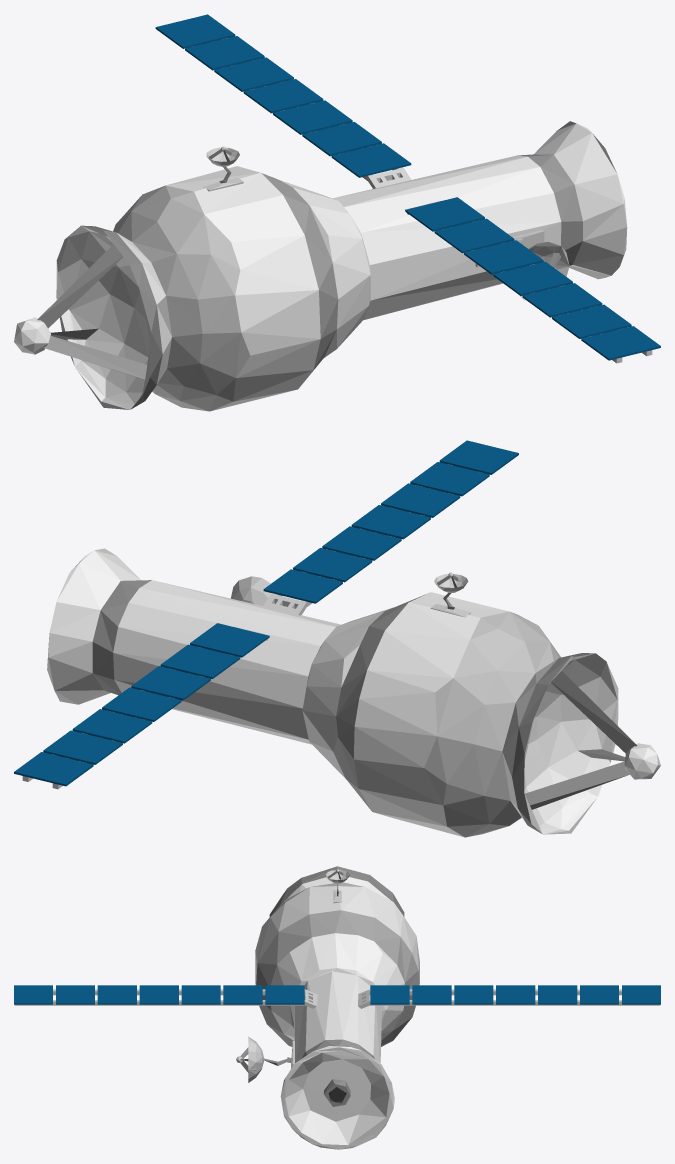
File: Satellite.fbx
3 renders of one model, top to bottom at view 1: azimuth 30°, elevation 25°; view 2: azimuth 150°, elevation 25°; view 3: azimuth 270°, elevation 25°, orthographic. The views are drawn at different scales.
Parts seen in each view (by area): view 1: Hull, Solar Panels, Satellite, Satellite.001; view 2: Hull, Solar Panels, Satellite, Satellite.001; view 3: Hull, Solar Panels, Satellite.
Boxes of the visible parts, x1=… form: Hull: x1=14, y1=121, x2=627, y2=411; Solar Panels: x1=155, y1=14, x2=660, y2=363; Satellite: x1=475, y1=230, x2=569, y2=300; Satellite.001: x1=203, y1=146, x2=243, y2=191; Hull: x1=47, y1=548, x2=660, y2=837; Solar Panels: x1=14, y1=440, x2=518, y2=789; Satellite: x1=231, y1=576, x2=271, y2=605; Satellite.001: x1=430, y1=572, x2=470, y2=617; Hull: x1=255, y1=866, x2=419, y2=1149; Solar Panels: x1=14, y1=985, x2=660, y2=1008; Satellite: x1=236, y1=1036, x2=294, y2=1082.
Bounding box in the file's own units: 1070 × 441 × 1467.
